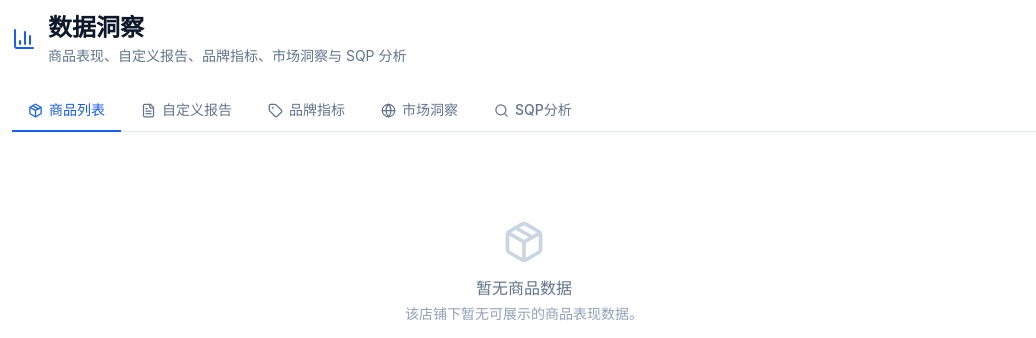
Test: DataInsightsPage empty-states (Req 30.8) › renders the brand-metrics empty-state when no payload is available
This screenshot has width=1036, height=338.
Click the button "品牌指标" at (306, 111), box top-left (252, 90), bottom-right (361, 132)
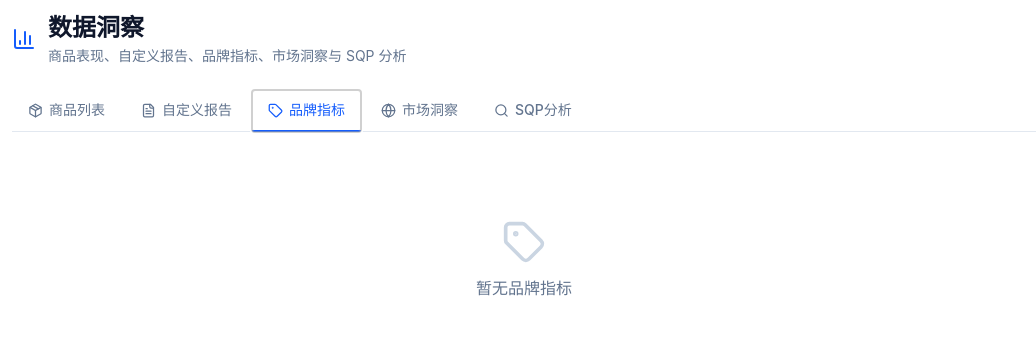
expect the text "暂无品牌指标" is shown: met, box top-left (476, 276), bottom-right (572, 300)
